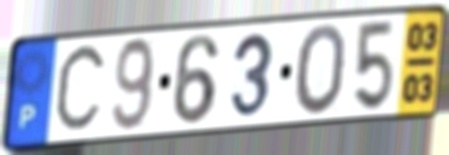3: (227, 29, 279, 121)
5: (350, 15, 396, 114)
6: (169, 32, 223, 128)
9: (108, 34, 157, 137)
C: (51, 39, 110, 141)
O: (293, 21, 350, 120)
